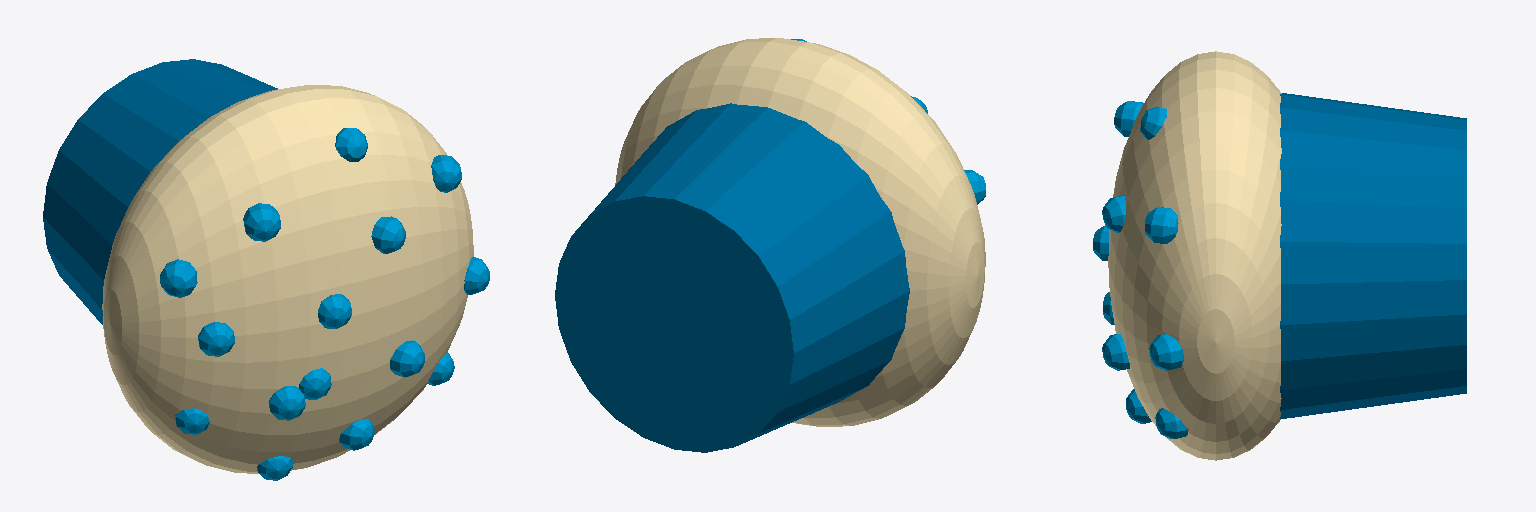
The model's file is BlueberryMuffin.obj.
The picture shows the model from 3 angles: view 1: azimuth 30°, elevation 25°; view 2: azimuth 150°, elevation 25°; view 3: azimuth 270°, elevation 25°; orthographic projection.
Visible parts, largest first — view 1: obj_0; view 2: obj_0; view 3: obj_0.
Boxes of the visible parts, x1,y1,x2,y2 form: obj_0: [43, 59, 489, 480]; obj_0: [555, 38, 985, 452]; obj_0: [1093, 51, 1466, 460].
Size of the model in its own units: 206 by 206 by 188.